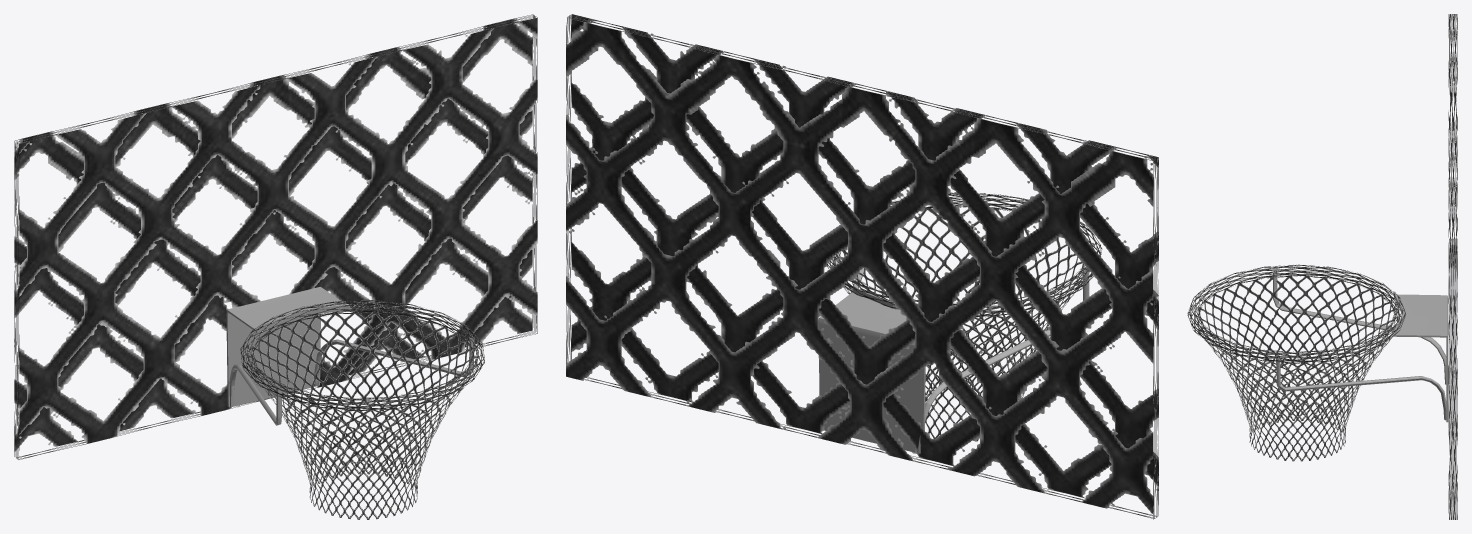
Rendered from BasketTable.fbx.
The picture shows the model from 3 angles, left to right: view 1: azimuth 30°, elevation 25°; view 2: azimuth 150°, elevation 25°; view 3: azimuth 270°, elevation 25°; orthographic projection. The views are drawn at different scales.
Parts seen in each view (by area): view 1: pCube1, pCylinder1, polySurface10, pTorus1, polySurface13, polySurface11; view 2: pCube1, pCylinder1, polySurface10, pTorus1, polySurface11; view 3: pCylinder1, pTorus1, pCube1, polySurface10, polySurface13, polySurface11.
Part boxes in pixels (x1=…): pCube1: x1=14, y1=14, x2=537, y2=459; pCylinder1: x1=247, y1=311, x2=478, y2=519; polySurface10: x1=226, y1=287, x2=350, y2=407; pTorus1: x1=240, y1=300, x2=484, y2=411; polySurface13: x1=314, y1=337, x2=474, y2=386; polySurface11: x1=229, y1=364, x2=281, y2=425; pCube1: x1=566, y1=14, x2=1158, y2=519; pCylinder1: x1=831, y1=207, x2=1087, y2=441; polySurface10: x1=818, y1=288, x2=925, y2=452; pTorus1: x1=827, y1=192, x2=1102, y2=317; polySurface11: x1=917, y1=269, x2=1089, y2=453; pCylinder1: x1=1195, y1=276, x2=1400, y2=461; pTorus1: x1=1187, y1=264, x2=1405, y2=363; pCube1: x1=1448, y1=14, x2=1457, y2=519; polySurface10: x1=1393, y1=291, x2=1448, y2=422; polySurface13: x1=1276, y1=355, x2=1446, y2=420; polySurface11: x1=1273, y1=271, x2=1448, y2=384.
Size of the model in its own units: 1.8 by 1.18 by 0.914.
